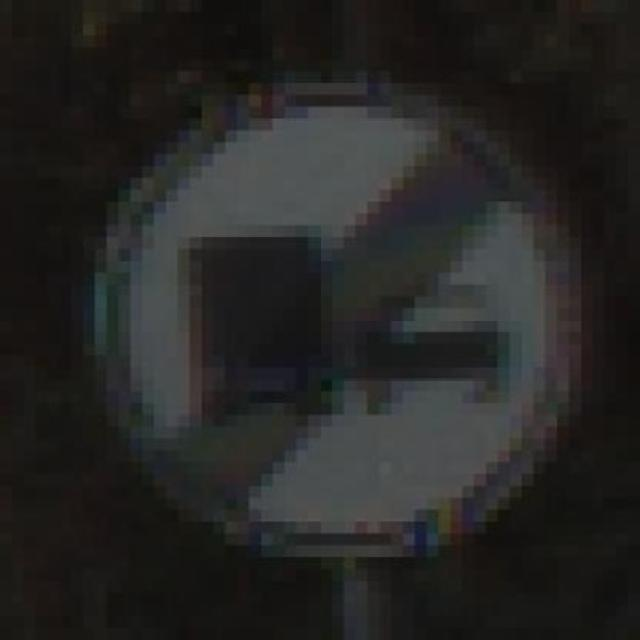Overtaking by trucks is prohibited: (58, 48, 604, 569)
